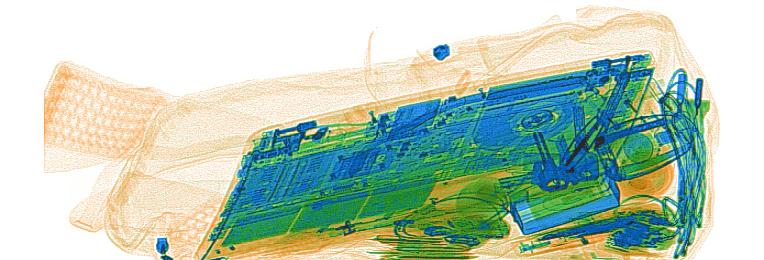lighter: (613, 64, 677, 148)
seal: (454, 172, 510, 227)
